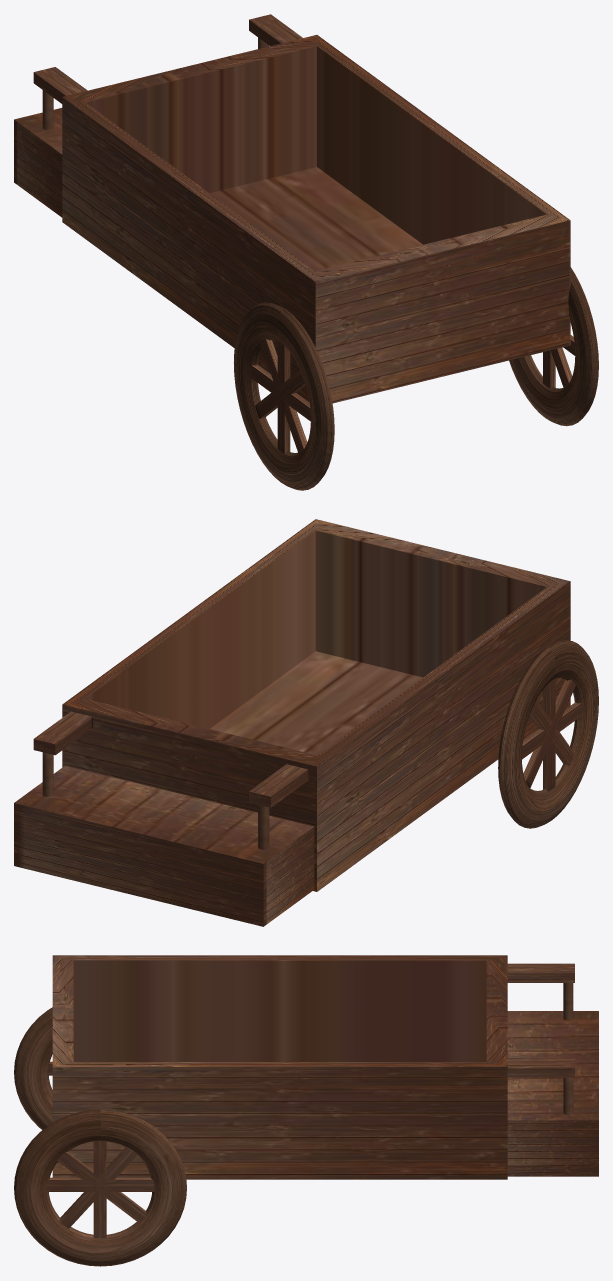
The model's file is Wagon.fbx.
3 views of the same model, one above another, from view 1: azimuth 30°, elevation 25°; view 2: azimuth 150°, elevation 25°; view 3: azimuth 270°, elevation 25° (orthographic). The views are drawn at different scales.
Visible parts, largest first — view 1: Wagon; view 2: Wagon; view 3: Wagon.
Part boxes in pixels (x1,y1,x2,y2): Wagon: [14, 14, 598, 490]; Wagon: [14, 519, 598, 926]; Wagon: [14, 955, 598, 1266].
Size of the model in its own units: 924 by 698 by 1874.
